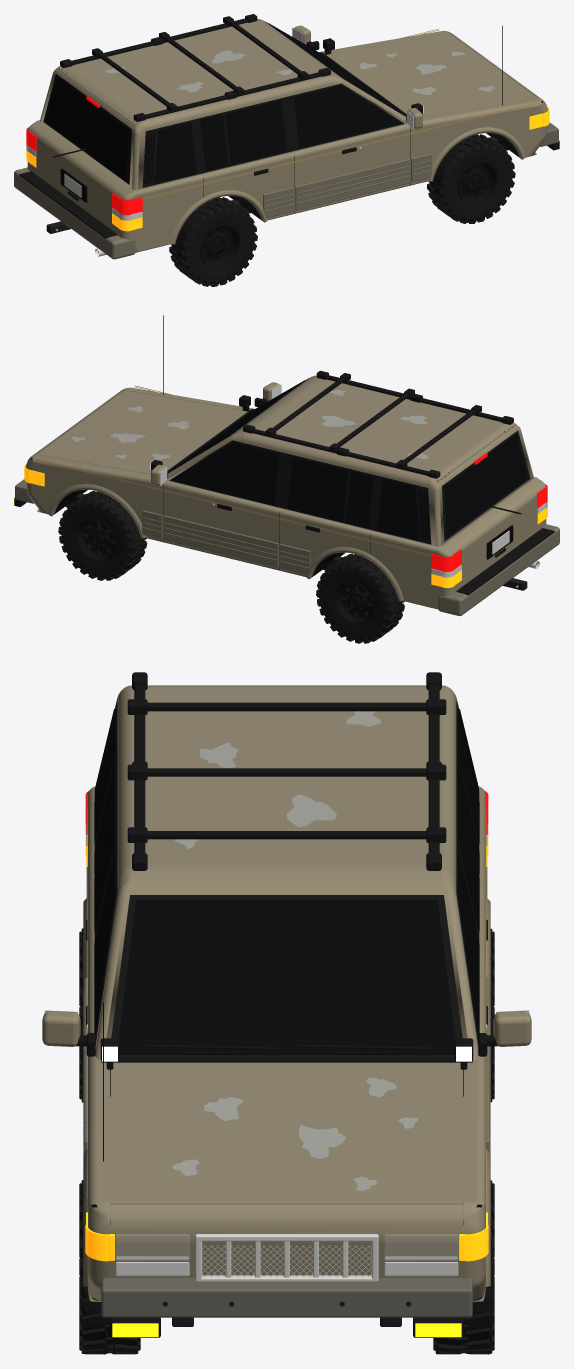
Rendered from zj-standin.glb.
3 renders of one model, top to bottom at view 1: azimuth 30°, elevation 25°; view 2: azimuth 150°, elevation 25°; view 3: azimuth 270°, elevation 25°, orthographic. The views are drawn at different scales.
Visible parts, largest first — view 1: Body, Cabin, RearGlass, SideGlass.004, WindowFrame.001, SideGlass.005, Tyre.001, Cladding.004, Tyre.003, RearBumper, SideGlass.007, Tread.001 (+18 smaller); view 2: Body, Cabin, RearGlass, SideGlass, WindowFrame, SideGlass.001, Cladding.001, Tyre, Tyre.002, RearBumper, SideGlass.003, Tread (+18 smaller); view 3: Body, Cabin, Windshield, BumperBeam, WindshieldFrame, Crossbar, Crossbar.001, Crossbar.002, GrilleMesh, Tread.001, Tread, Cowl (+20 smaller).
Boxes of the visible parts, x1,y1,x2,y2 form: Body: [27, 30, 548, 252]; Cabin: [40, 19, 407, 189]; RearGlass: [46, 77, 129, 180]; SideGlass.004: [294, 86, 402, 148]; WindowFrame.001: [142, 83, 404, 187]; SideGlass.005: [225, 100, 286, 164]; Tyre.001: [429, 136, 512, 221]; Cladding.004: [295, 158, 410, 210]; Tyre.003: [172, 199, 254, 283]; RearBumper: [14, 167, 135, 259]; SideGlass.007: [154, 122, 196, 183]; Tread.001: [427, 134, 515, 223]; Body: [25, 387, 546, 609]; Cabin: [166, 375, 533, 546]; RearGlass: [444, 434, 527, 537]; SideGlass: [171, 442, 279, 504]; WindowFrame: [169, 440, 431, 544]; SideGlass.001: [287, 457, 348, 521]; Cladding.001: [163, 515, 278, 567]; Tyre: [61, 495, 144, 577]; Tyre.002: [319, 557, 401, 640]; RearBumper: [438, 524, 559, 616]; SideGlass.003: [377, 479, 419, 540]; Tread: [58, 490, 147, 580]; Body: [88, 786, 485, 1301]; Cabin: [95, 685, 478, 1060]; Windshield: [118, 900, 455, 1054]; BumperBeam: [101, 1277, 472, 1317]; WindshieldFrame: [111, 895, 462, 1057]; Crossbar: [147, 702, 426, 711]; Crossbar.001: [147, 768, 426, 776]; Crossbar.002: [147, 831, 426, 839]; GrilleMesh: [202, 1245, 371, 1276]; Tread.001: [79, 1180, 140, 1354]; Tread: [433, 1180, 494, 1354]; Cowl: [101, 1057, 472, 1062].
Size of the model in its own units: 4.88 by 1.86 by 2.21.
24 materials, 1 textured.
